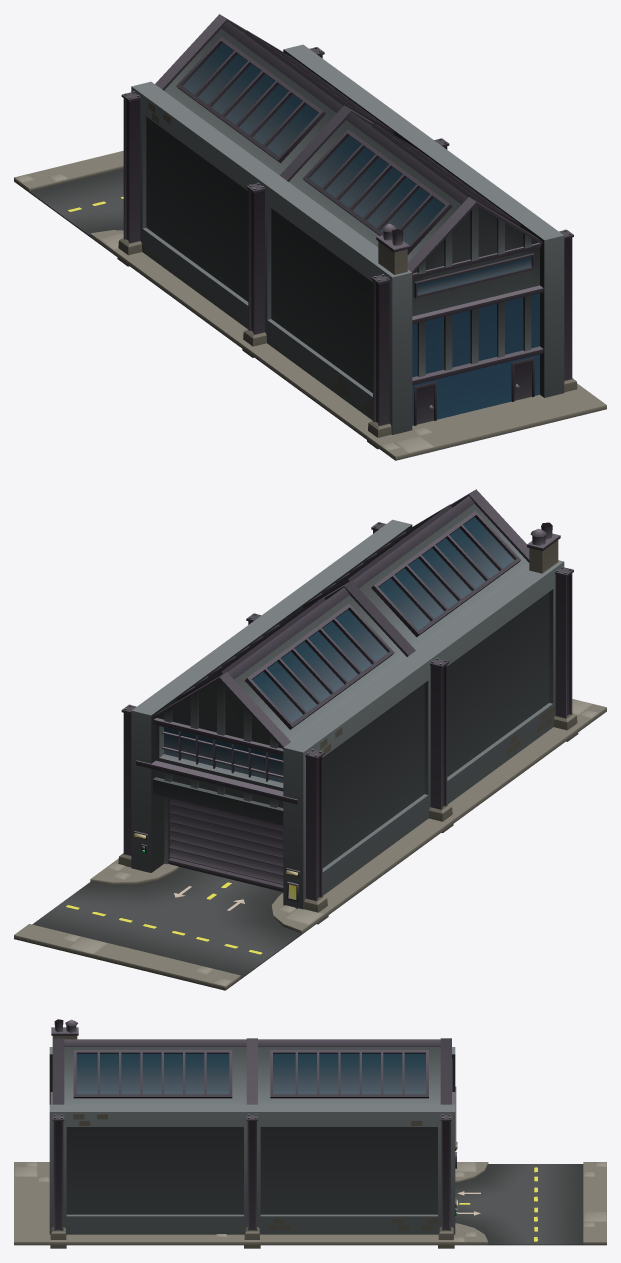
File: Warehouse_2B.fbx
The picture shows the model from 3 angles, top to bottom: view 1: azimuth 30°, elevation 25°; view 2: azimuth 150°, elevation 25°; view 3: azimuth 270°, elevation 25°; orthographic projection. The views are drawn at different scales.
Visible parts, largest first — view 1: Warehouse_2B, Warehouse_2B_Base; view 2: Warehouse_2B, Warehouse_2B_Base, Warehouse_Door_2B; view 3: Warehouse_2B, Warehouse_2B_Base.
Boxes of the visible parts, x1,y1,x2,y2 form: Warehouse_2B: (117,14,577,449); Warehouse_2B_Base: (14,150,606,460); Warehouse_2B: (118,489,578,924); Warehouse_2B_Base: (14,699,606,990); Warehouse_Door_2B: (168,798,283,891); Warehouse_2B: (49,1019,457,1248); Warehouse_2B_Base: (14,1162,606,1245).
Size of the model in its own units: 16 by 16.02 by 50.
